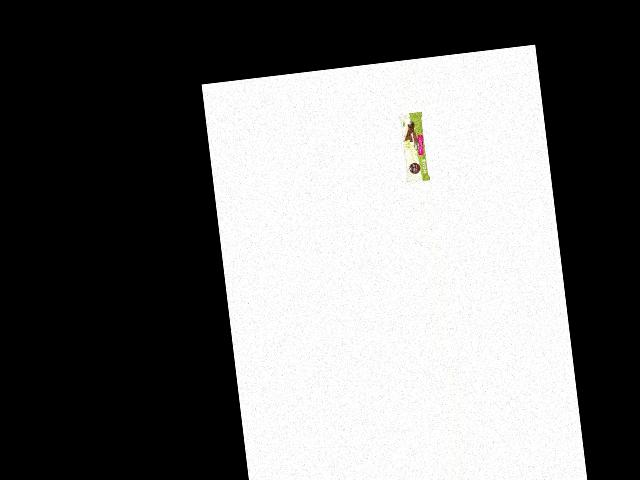chocolate: (396, 109, 433, 183)
